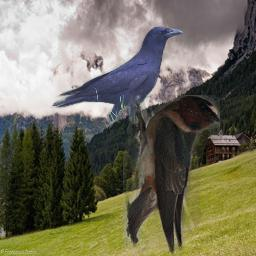Crow: (51, 25, 183, 132)
Swallow: (123, 95, 220, 255)
